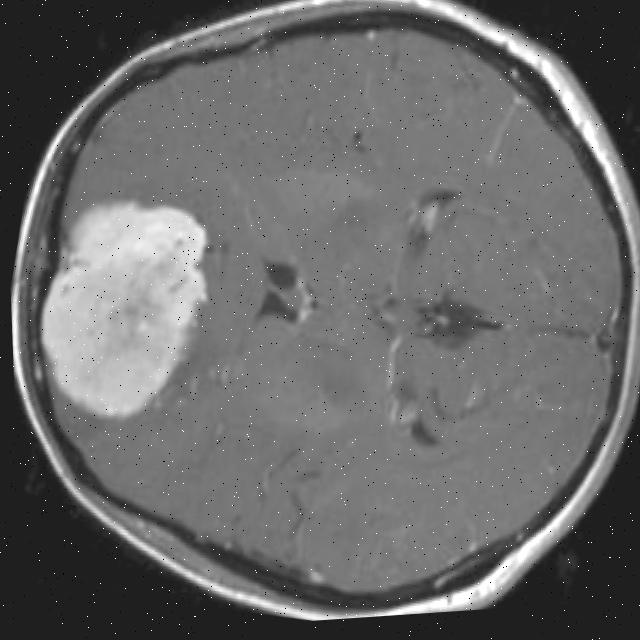Meningioma: (20, 175, 232, 438)
